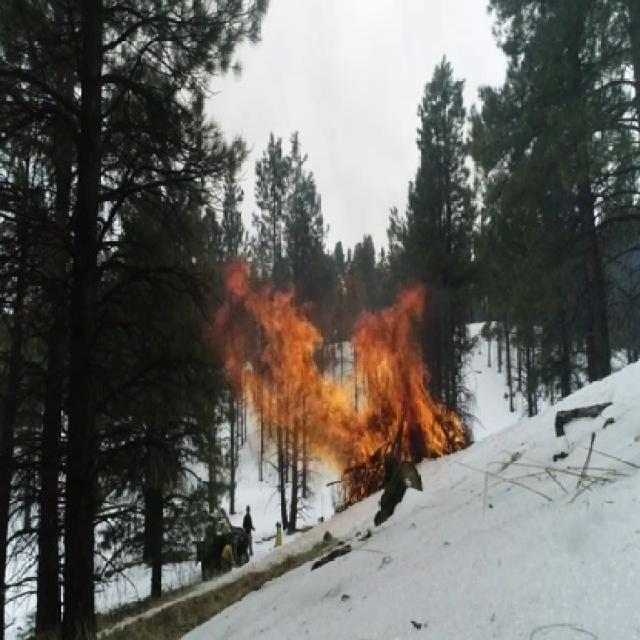Fire: (203, 255, 474, 503)
